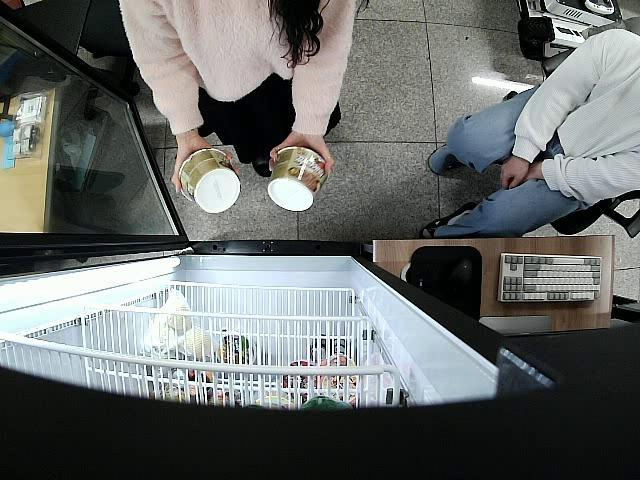03_chapagetti_L: (178, 150, 242, 214), (268, 150, 326, 212)
